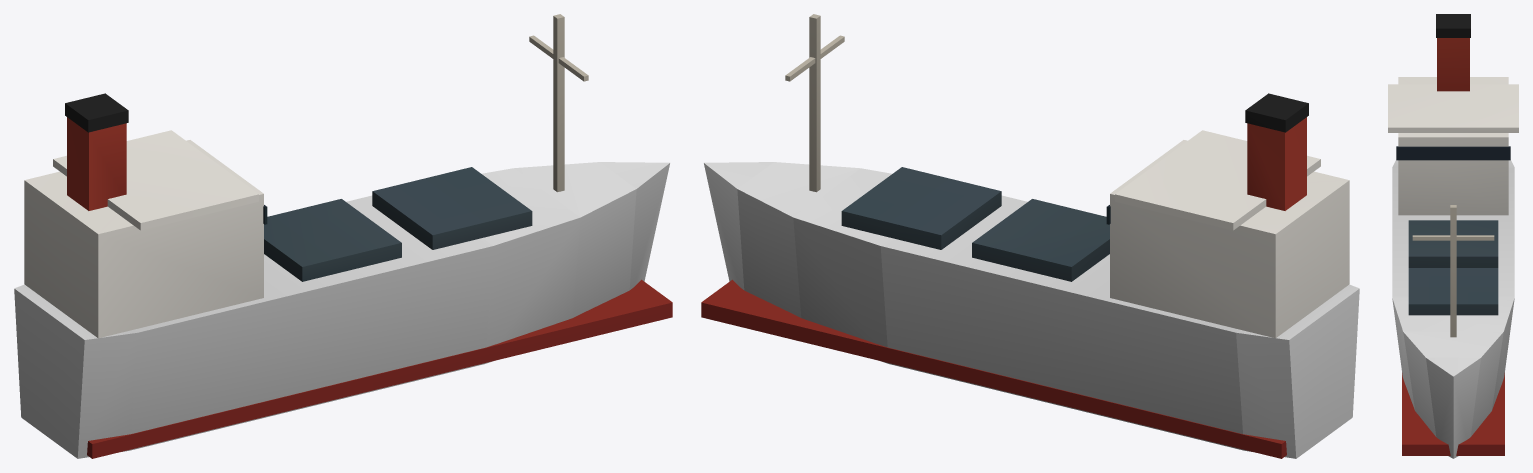
The model's file is mi_ship-D1ONw-sT.glb.
3 renders of one model, left to right at view 1: azimuth 30°, elevation 25°; view 2: azimuth 150°, elevation 25°; view 3: azimuth 270°, elevation 25°, orthographic. The views are drawn at different scales.
Bounding box in the file's own units: 26.2 × 12.9 × 6.4.
